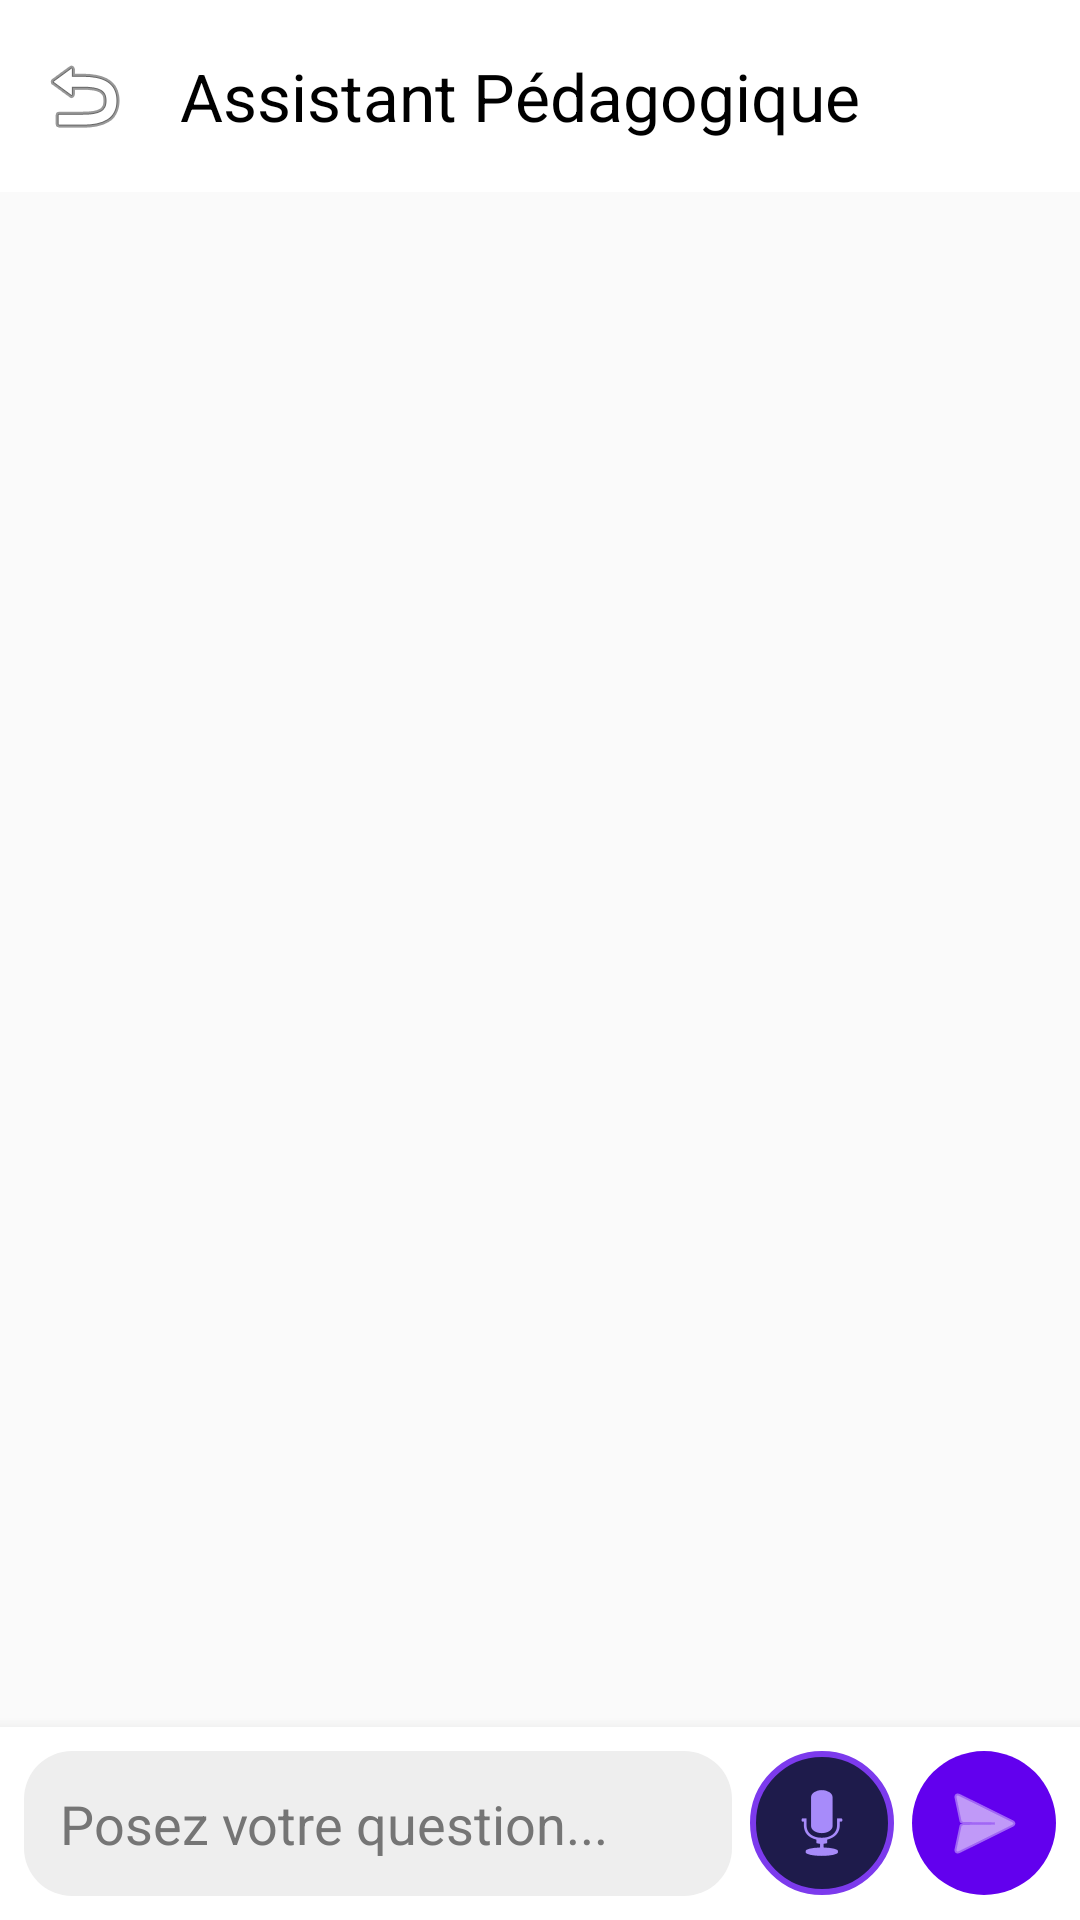

Where to tap for icons on this 1080w x 1920h app screen, as [x,y]:
send: [984,1823]
Voice input: [822,1823]
